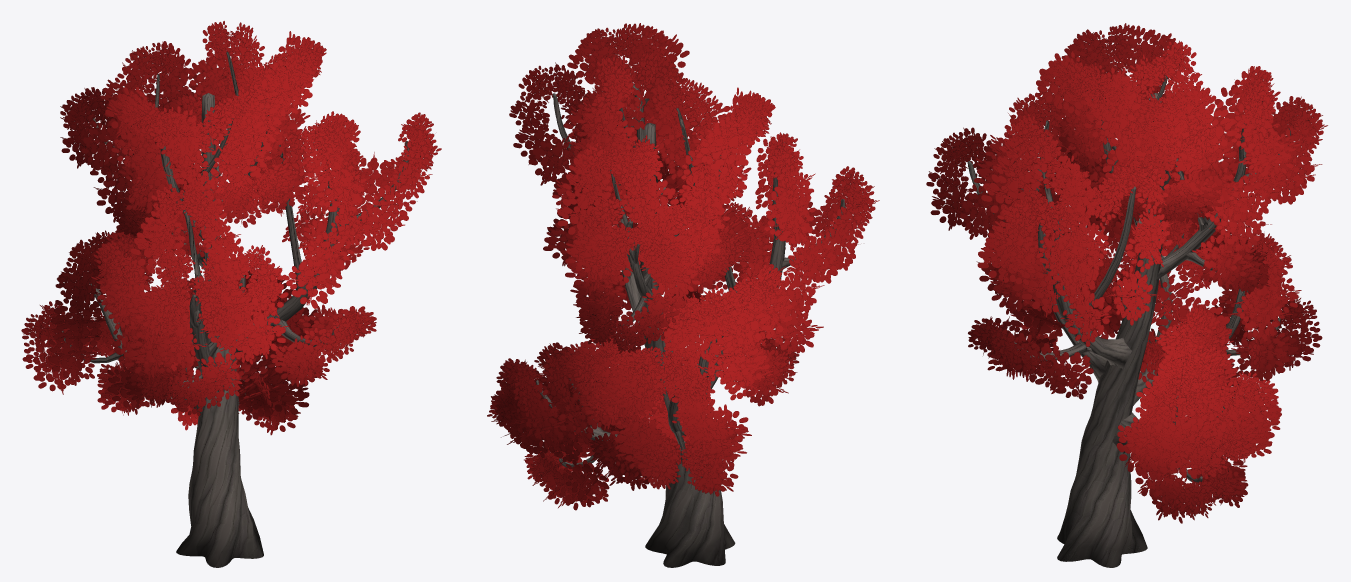
Rendered from nat_twistedtree_3.glb.
3 renders of one model, left to right at view 1: azimuth 30°, elevation 25°; view 2: azimuth 150°, elevation 25°; view 3: azimuth 270°, elevation 25°, orthographic. The views are drawn at different scales.
Parts seen in each view (by area): view 1: tree040_1, tree040; view 2: tree040_1, tree040; view 3: tree040_1, tree040.
Part boxes in pixels (box(x1,y1,x2,y2)): tree040_1: box(21, 21, 441, 435); tree040: box(62, 51, 409, 567); tree040_1: box(487, 23, 879, 510); tree040: box(536, 82, 845, 567); tree040_1: box(926, 23, 1327, 523); tree040: box(967, 75, 1290, 567).
Bounding box in the file's own units: 11.36 × 16.07 × 11.51.
Materials: 2 (2 with a texture image).
